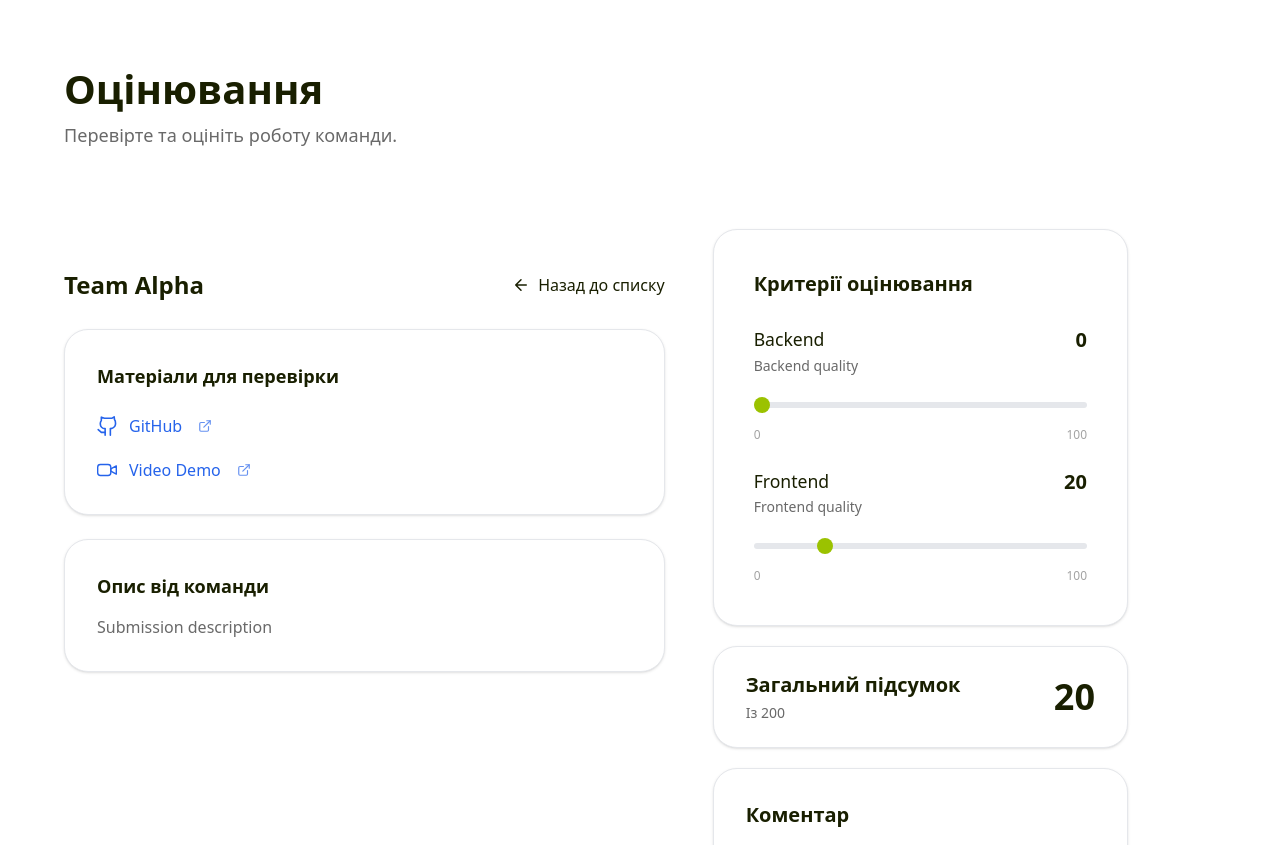
it: jury grading page › updates the criterion score, hidden input, and total score from the slider
Set the slider named "Score slider for Backend" to "55" at (936, 404), box [754,402,1087,408]
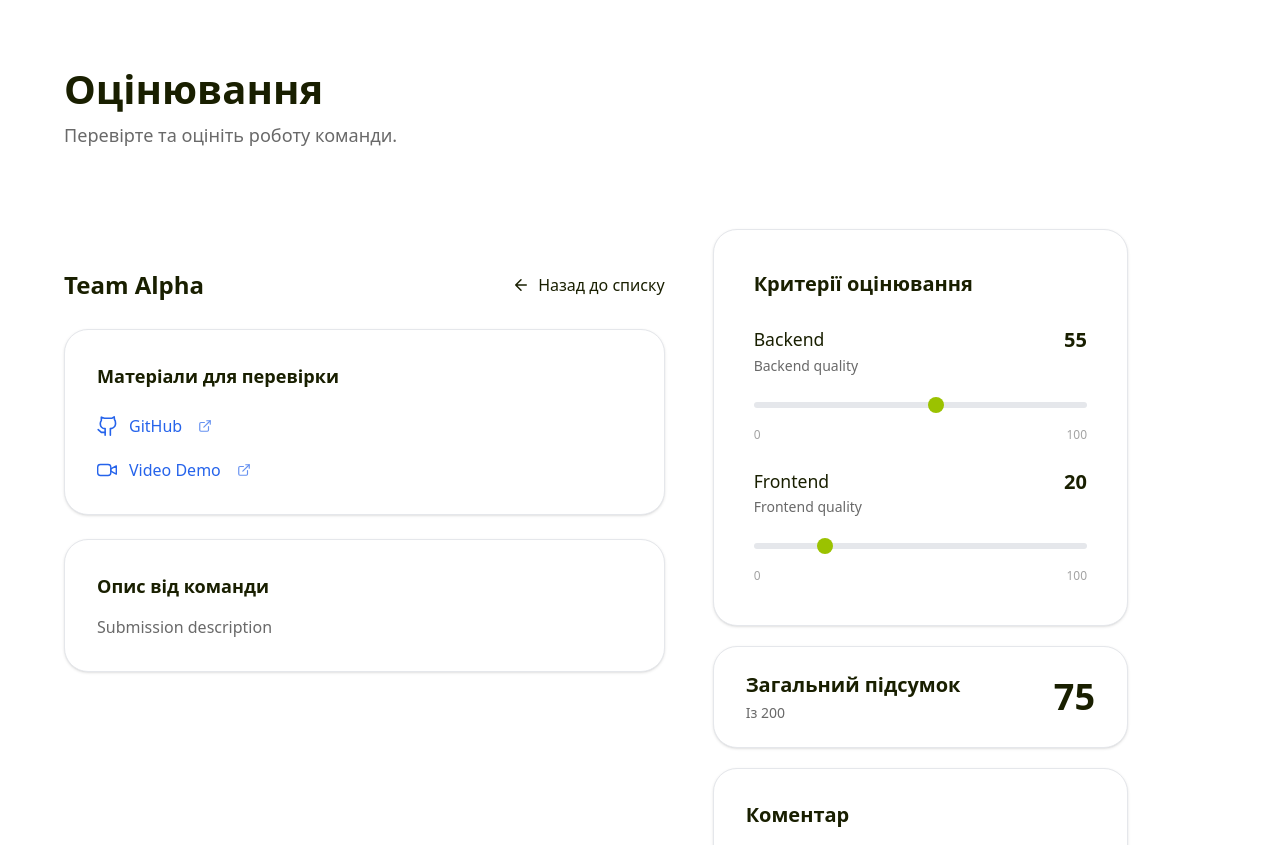
Expected: the element named "score" holds "55", [754,326,1087,585]
Now the number field named "Score for Backend" holds "55", box [1053,326,1087,353]
Now the text with test id "total-score" reads "75", box [1054,672,1095,721]
